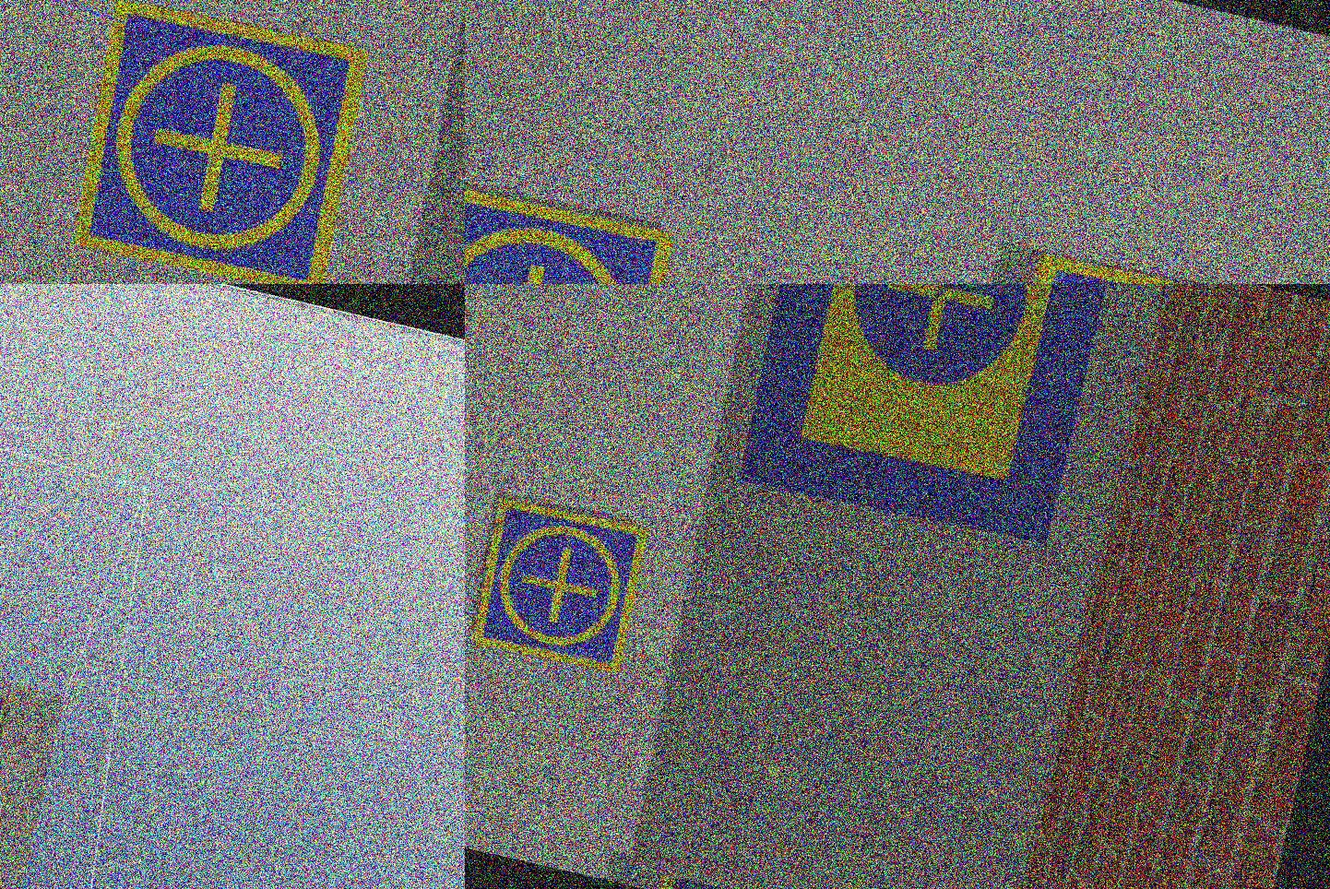large_base: (731, 284, 1115, 553)
small_base: (63, 1, 378, 284), (465, 495, 655, 680), (465, 172, 681, 284)
